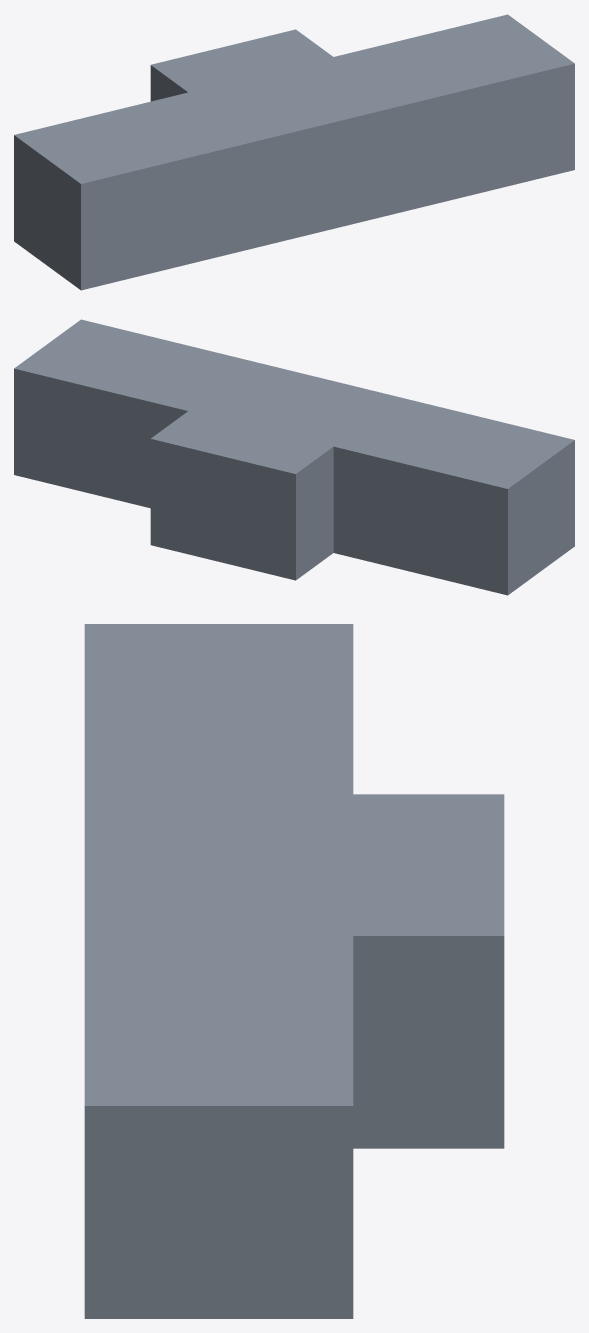
File: camera_line_scan_l1.glb
3 views of the same model, one above another, from view 1: azimuth 30°, elevation 25°; view 2: azimuth 150°, elevation 25°; view 3: azimuth 270°, elevation 25° (orthographic). The views are drawn at different scales.
Parts seen in each view (by area): view 1: CAMERA_LINE_SCAN; view 2: CAMERA_LINE_SCAN; view 3: CAMERA_LINE_SCAN.
Boxes of the visible parts, box(x1,y1,x2,y2) form: CAMERA_LINE_SCAN: box(14, 14, 574, 290); CAMERA_LINE_SCAN: box(14, 319, 574, 595); CAMERA_LINE_SCAN: box(84, 624, 504, 1318).
Bounding box in the file's own units: 0.34 × 0.07 × 0.125.
